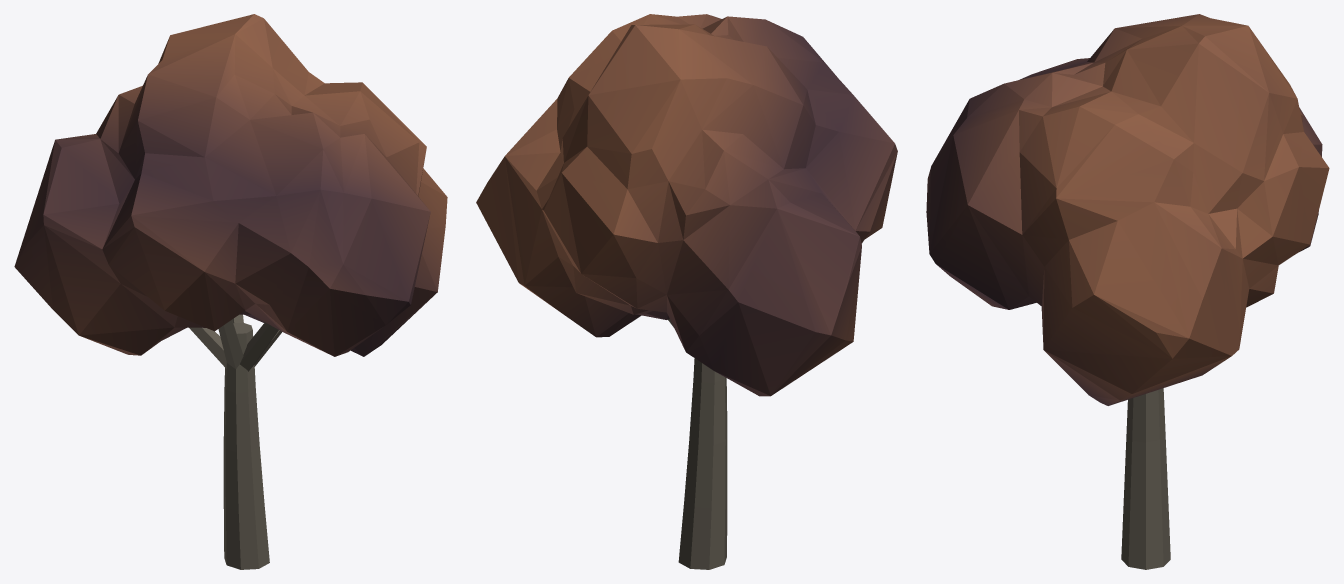
The model's file is CopperBeechA.glb.
The picture shows the model from 3 angles, left to right: view 1: azimuth 30°, elevation 25°; view 2: azimuth 150°, elevation 25°; view 3: azimuth 270°, elevation 25°; orthographic projection. The views are drawn at different scales.
Visible parts, largest first — view 1: CopperBeechA_LOD0; view 2: CopperBeechA_LOD0; view 3: CopperBeechA_LOD0.
Boxes of the visible parts, x1,y1,x2,y2 form: CopperBeechA_LOD0: (14,14,447,569); CopperBeechA_LOD0: (476,14,897,569); CopperBeechA_LOD0: (926,14,1329,569).
Size of what is drawn, in the model's own units: 5.98 by 7.96 by 5.37.
